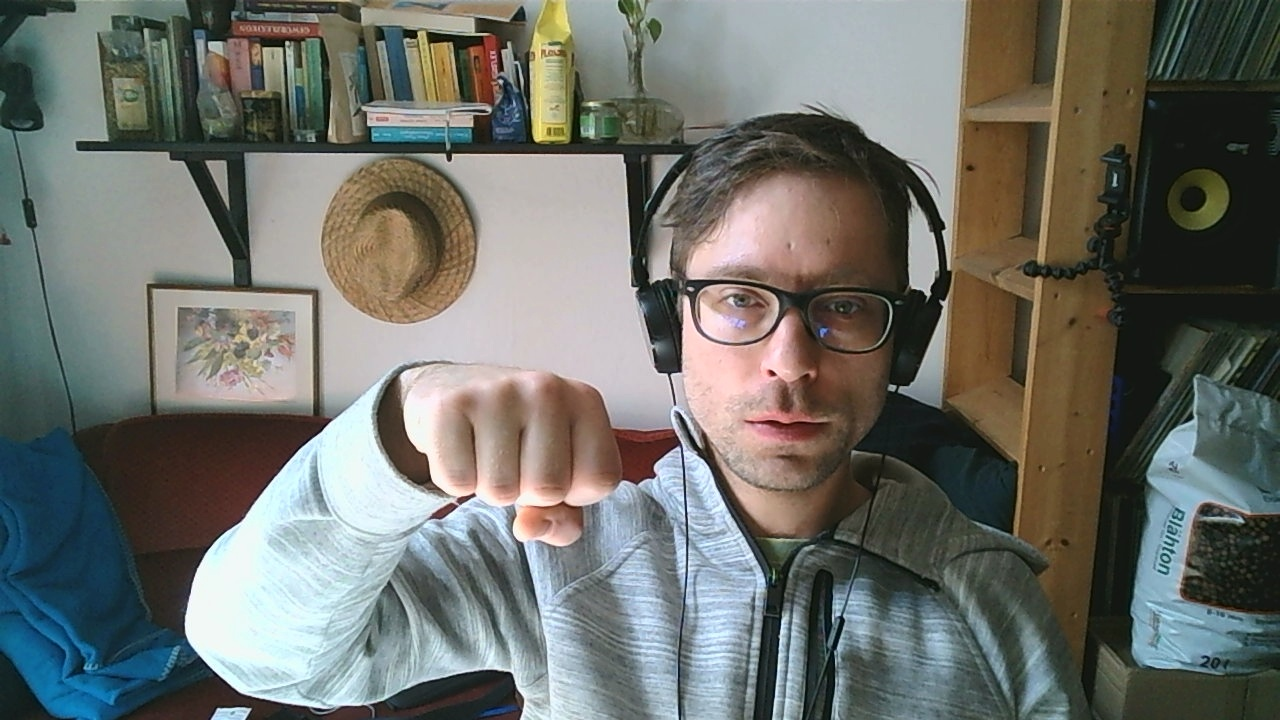yes: (405, 362, 633, 548)
